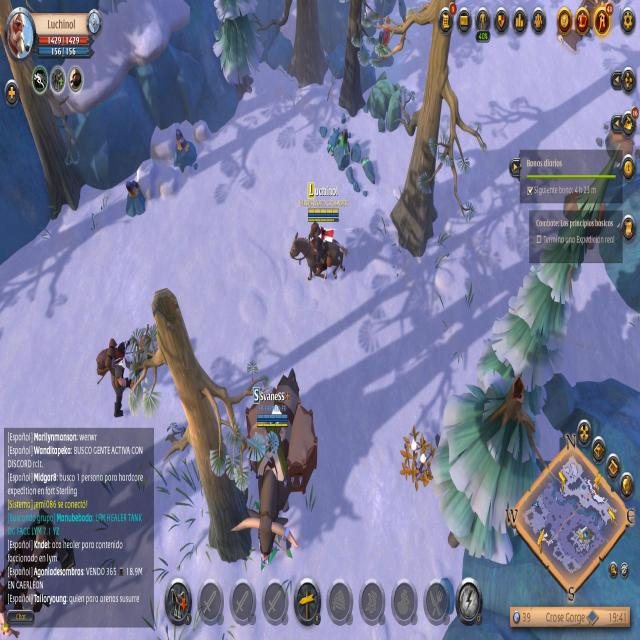piedra_cobre: (168, 126, 202, 178), (121, 172, 154, 221)
